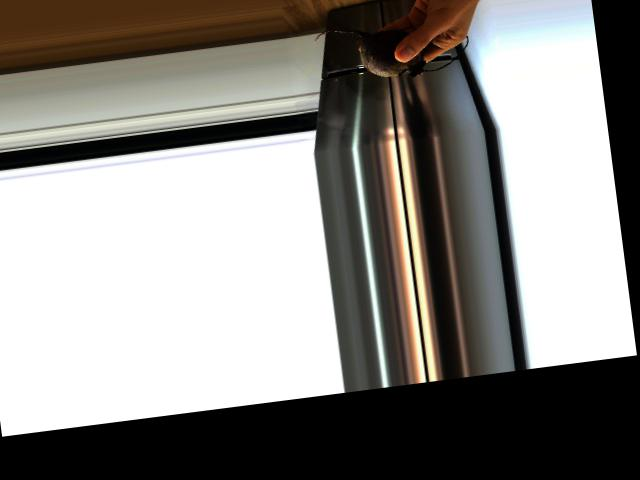beet: (312, 12, 471, 88)
